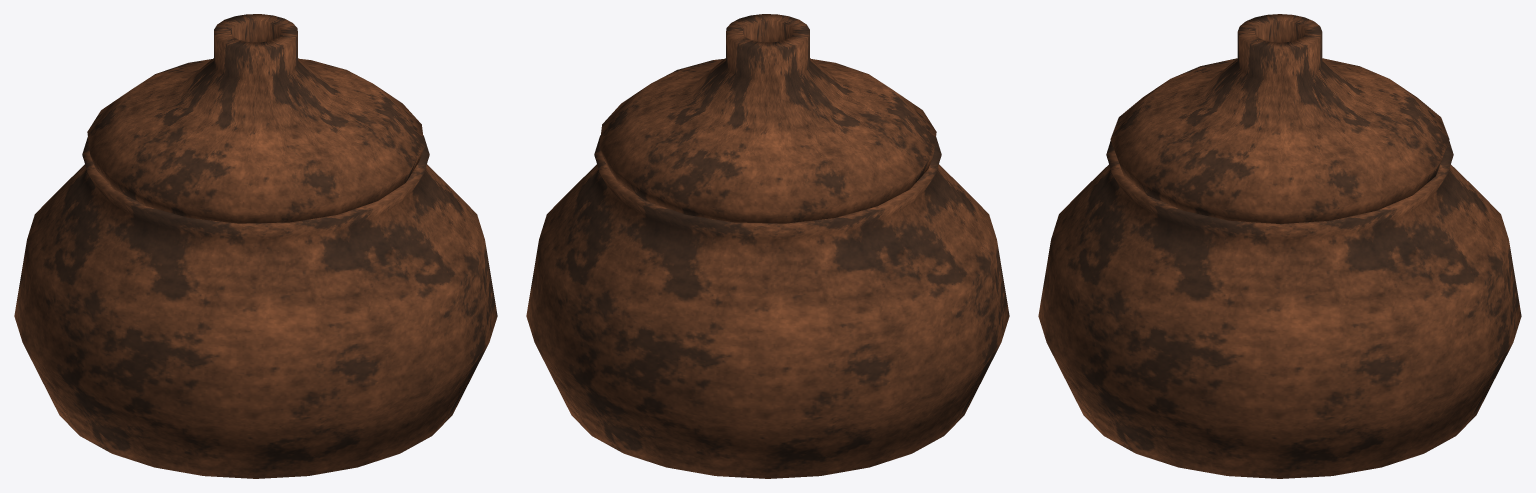
Rendered from Pot_C.glb.
The picture shows the model from 3 angles, left to right: view 1: azimuth 30°, elevation 25°; view 2: azimuth 150°, elevation 25°; view 3: azimuth 270°, elevation 25°; orthographic projection.
Parts seen in each view (by area): view 1: Pot_C__Clay; view 2: Pot_C__Clay; view 3: Pot_C__Clay.
Part boxes in pixels (bbox=[...]): Pot_C__Clay: bbox=[14, 14, 497, 478]; Pot_C__Clay: bbox=[526, 14, 1009, 478]; Pot_C__Clay: bbox=[1038, 14, 1521, 478].
Bounding box in the file's own units: 5.7 × 4.9 × 5.7.
2 materials, 2 textured.
